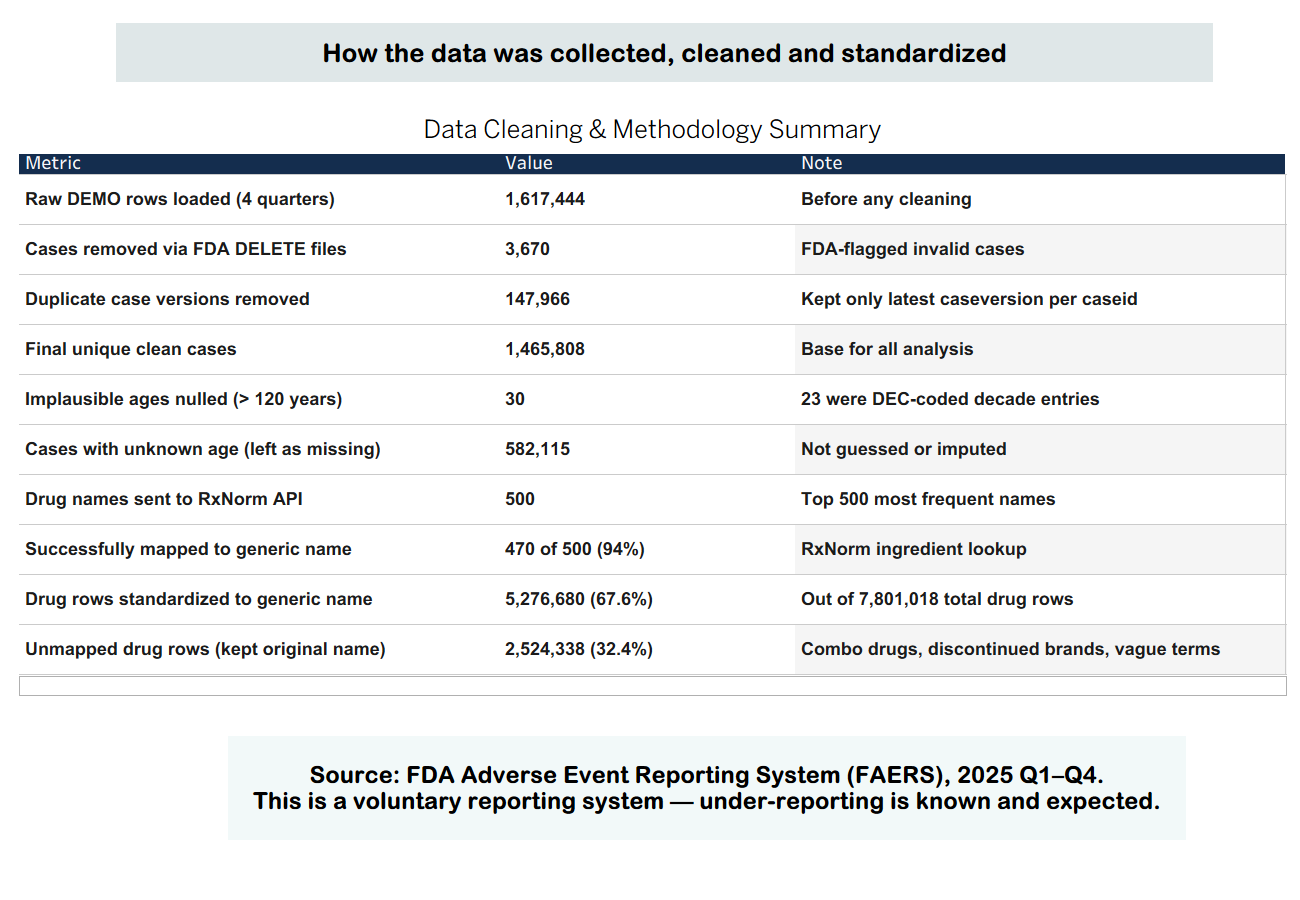

The dashboard page shown, as its layout file describes it:
{"tool":"tableau","page":{"name":"Data Quality & Methodology Dashboard","canvas":[1300,900],"ordinal":0},"visuals":[{"type":"text","box":[116,23,1097,59]},{"type":"worksheet","title":"Data Quality & Methodology","mark":"Text","rows":["metric","value","note"],"box":[19,107,1267,761]},{"type":"text","box":[228,736,958,104]}]}

Visuals, with their boxes in screenshot pixels (x1, y1, x2, y2), scaled from the page's 1300x900 canvas onto the 1300x900 screenshot:
text: (x1=116, y1=23, x2=1213, y2=82)
"Data Quality & Methodology" worksheet (Text marks): (x1=19, y1=107, x2=1286, y2=868)
text: (x1=228, y1=736, x2=1186, y2=840)
